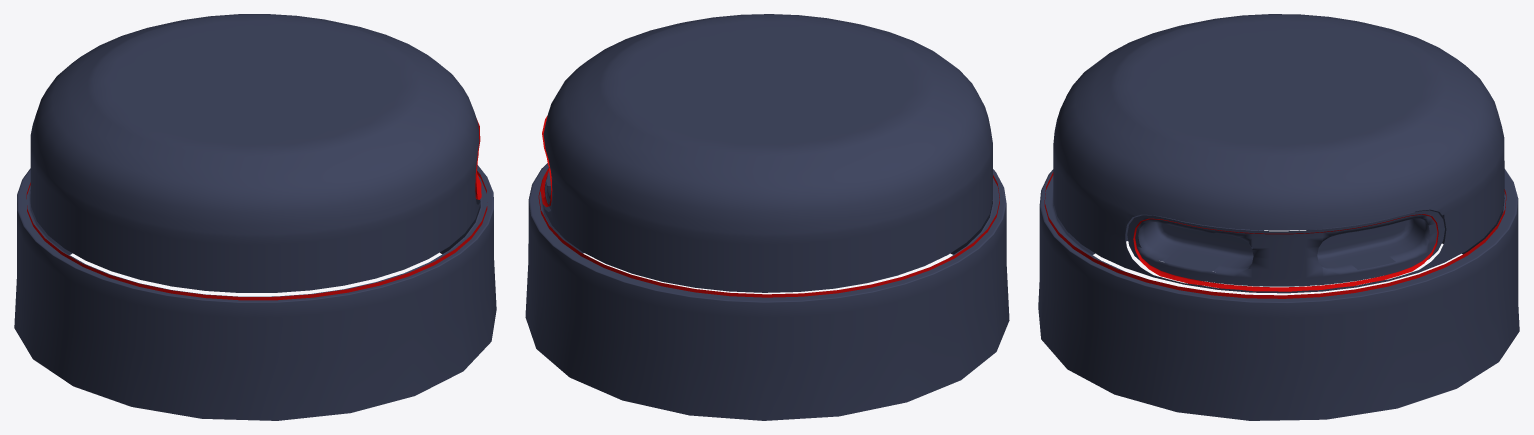
File: rplidar.dae
3 views of the same model, side by side, from view 1: azimuth 30°, elevation 25°; view 2: azimuth 150°, elevation 25°; view 3: azimuth 270°, elevation 25° (orthographic).
Parts seen in each view (by area): view 1: pasted__polySurface34, pasted__polySurface33; view 2: pasted__polySurface34, pasted__polySurface33; view 3: pasted__polySurface34, pasted__polySurface29, pasted__polySurface33.
Boxes of the visible parts, left/top/right/bottom form: pasted__polySurface34: left=14, top=14, right=496, bottom=420; pasted__polySurface33: left=26, top=171, right=487, bottom=300; pasted__polySurface34: left=525, top=14, right=1009, bottom=420; pasted__polySurface33: left=538, top=175, right=999, bottom=297; pasted__polySurface34: left=1038, top=14, right=1519, bottom=420; pasted__polySurface29: left=1133, top=214, right=1438, bottom=291; pasted__polySurface33: left=1044, top=172, right=1506, bottom=298.
Bounding box in the file's own units: 0.0685 × 0.0685 × 0.0371.
